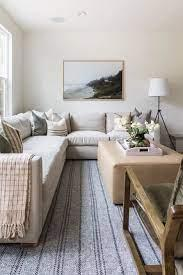chair: (114, 159, 183, 274)
light: (147, 74, 172, 126), (73, 6, 91, 24)
sofa: (2, 107, 161, 247)
table: (94, 134, 183, 201)
